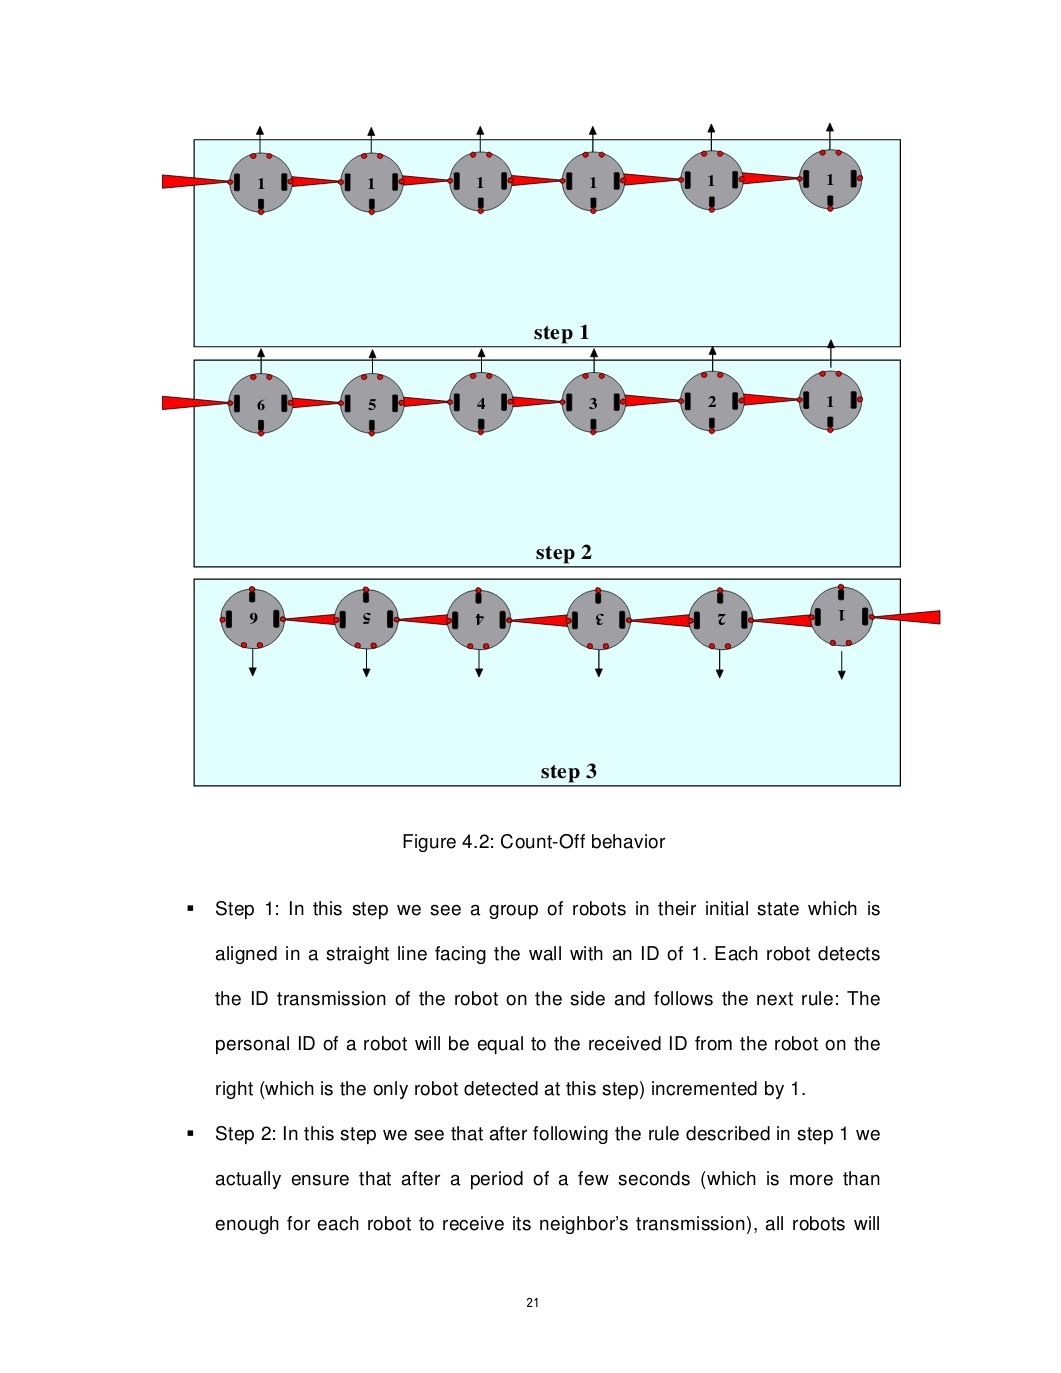figure: (160, 121, 940, 786)
